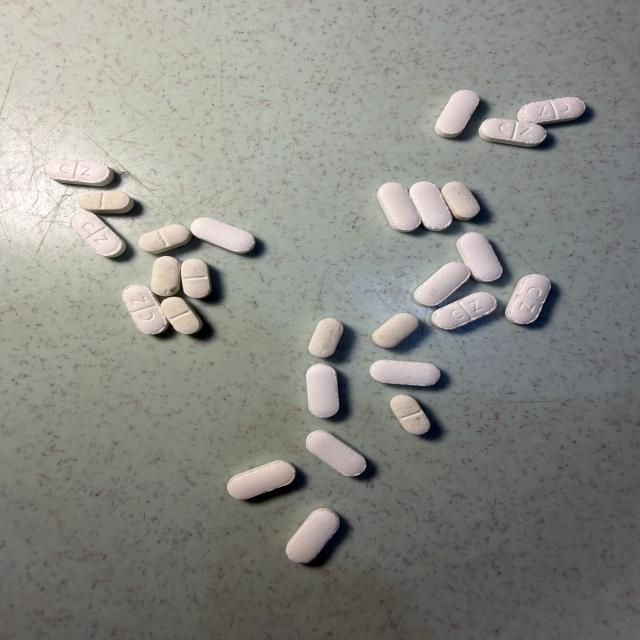pill: (286, 508, 339, 563), (306, 430, 366, 476), (227, 460, 296, 499), (431, 291, 497, 330), (71, 212, 125, 257), (414, 263, 470, 306), (191, 218, 255, 254), (122, 285, 168, 334), (457, 232, 502, 282), (506, 274, 550, 324), (378, 183, 421, 232), (435, 90, 479, 137), (410, 182, 452, 231), (479, 119, 546, 147), (45, 159, 114, 186), (370, 360, 440, 386), (518, 97, 585, 124), (307, 364, 339, 417), (372, 313, 419, 347), (138, 224, 191, 253), (391, 395, 430, 434), (161, 297, 202, 334), (442, 181, 479, 220), (309, 318, 343, 357), (78, 191, 134, 213), (181, 259, 212, 298), (151, 256, 180, 296)
